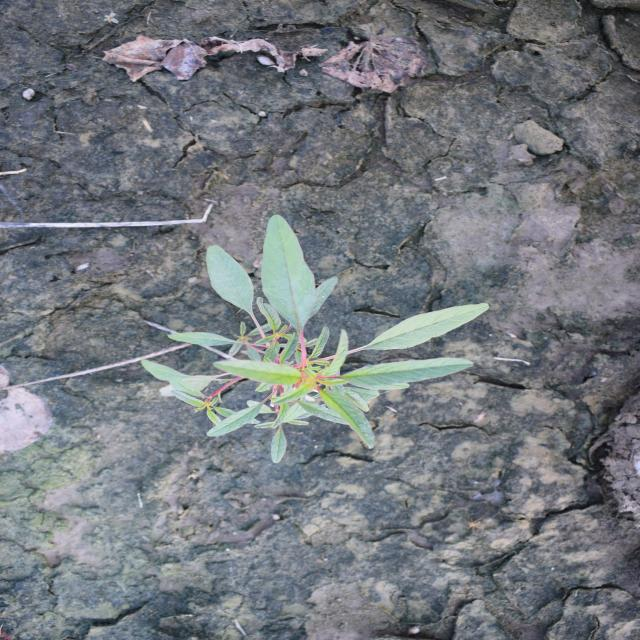Waterhemp: (136, 212, 494, 466)
